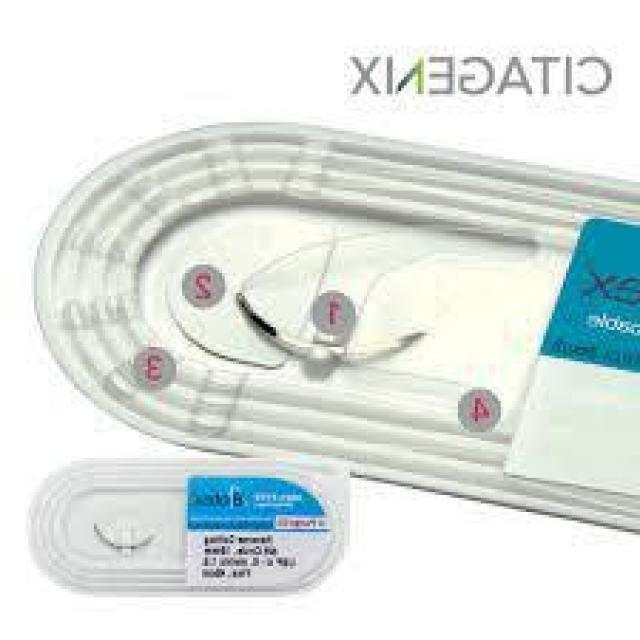Needle: (230, 287, 430, 378), (88, 520, 157, 554)
